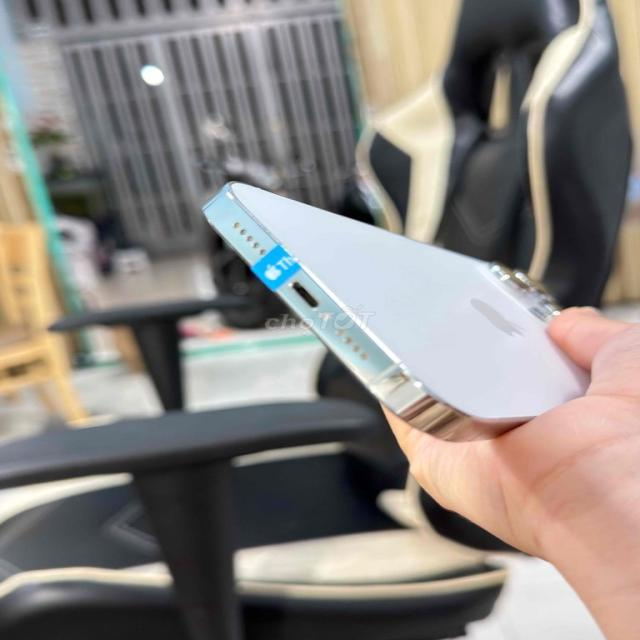gen_14: (208, 177, 628, 455)
